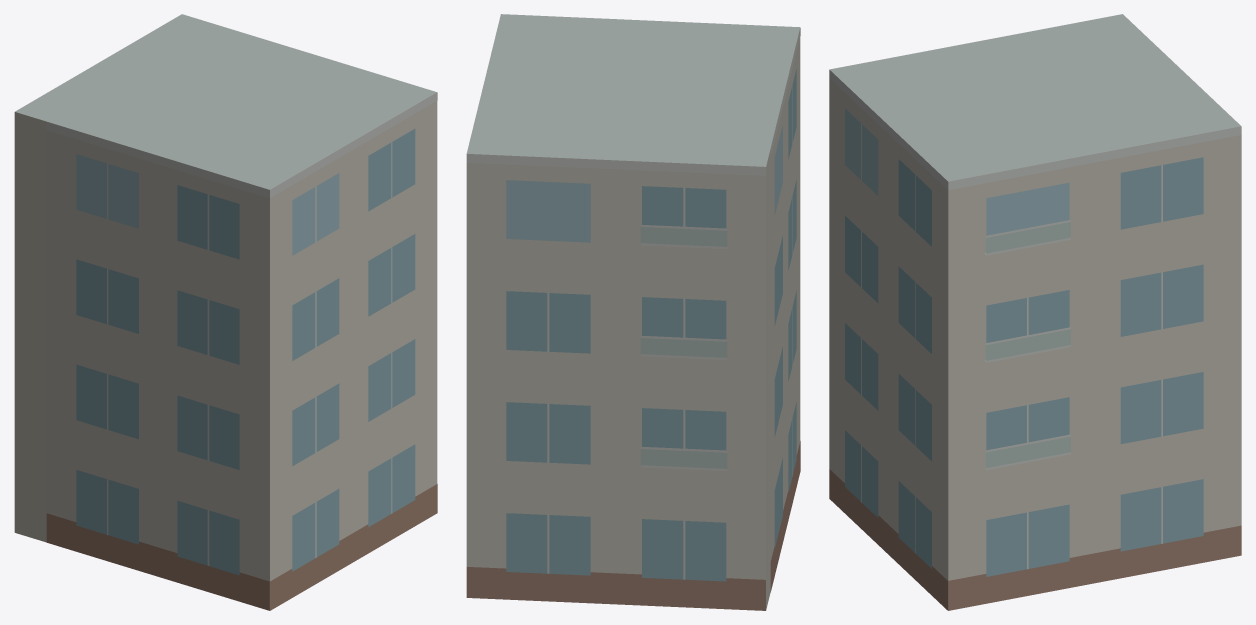
Rendered from residential-50a8ca21-adc7-4c1f-a82c-d36757728cbf.glb.
3 renders of one model, left to right at view 1: azimuth 30°, elevation 25°; view 2: azimuth 150°, elevation 25°; view 3: azimuth 270°, elevation 25°, orthographic. The views are drawn at different scales.
Visible parts, largest first — view 1: residential-50a8ca21-adc7-4c1f-a82c-d36757728cbf.tmp; view 2: residential-50a8ca21-adc7-4c1f-a82c-d36757728cbf.tmp; view 3: residential-50a8ca21-adc7-4c1f-a82c-d36757728cbf.tmp.
Boxes of the visible parts, left/top/right/bottom form: residential-50a8ca21-adc7-4c1f-a82c-d36757728cbf.tmp: left=14, top=14, right=437, bottom=610; residential-50a8ca21-adc7-4c1f-a82c-d36757728cbf.tmp: left=466, top=14, right=800, bottom=610; residential-50a8ca21-adc7-4c1f-a82c-d36757728cbf.tmp: left=829, top=14, right=1241, bottom=610.
Size of the model in its own units: 10.23 by 12.2 by 10.63.
